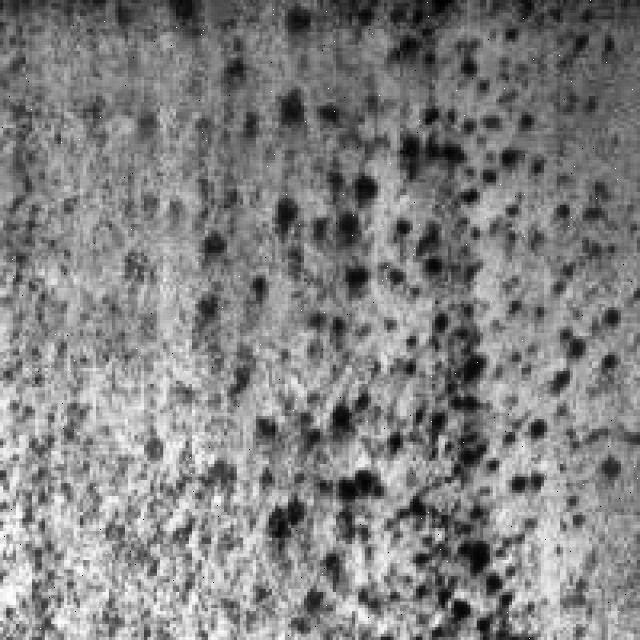Rolled_in_Scale: (202, 0, 612, 637)
